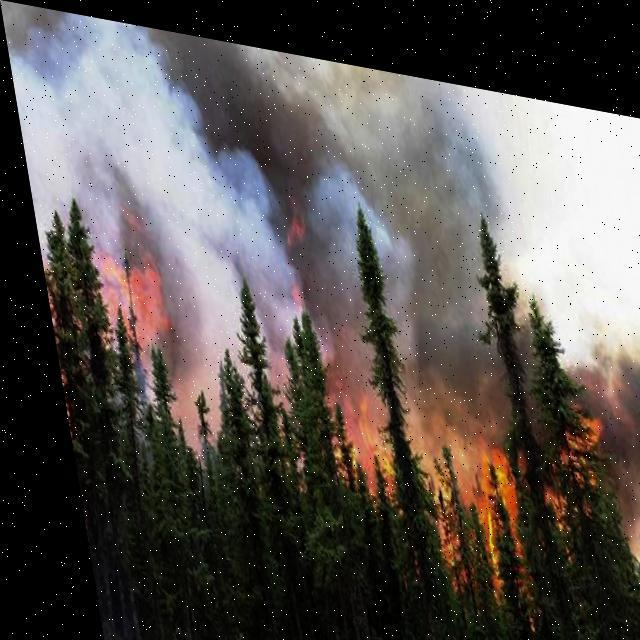Fire: (275, 272, 619, 628), (26, 191, 172, 389)
